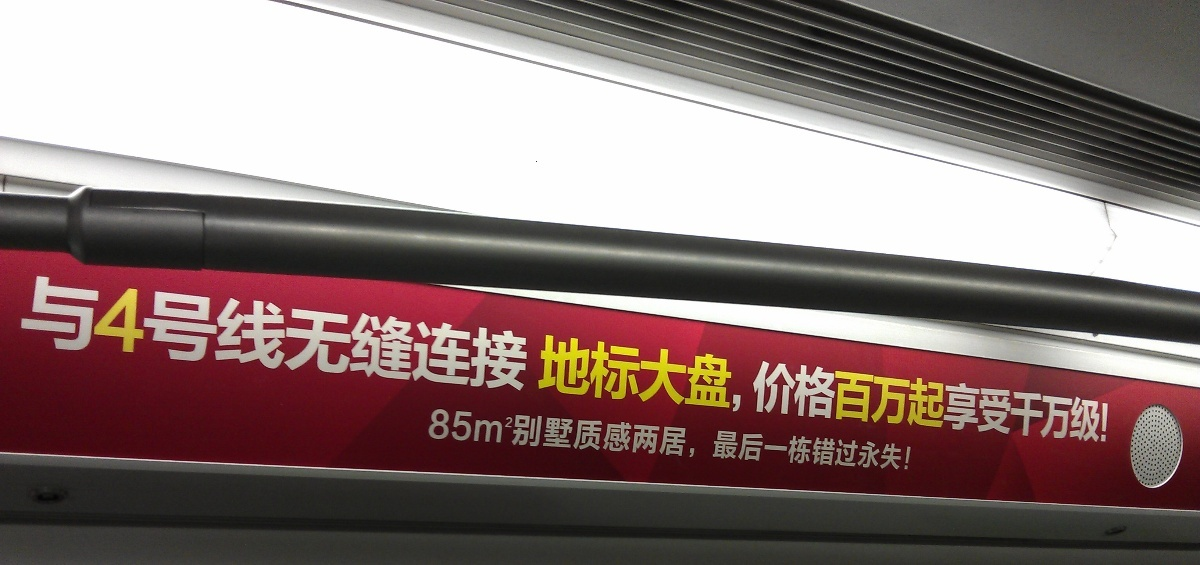text: (33, 277, 48, 448), (49, 277, 64, 448), (65, 277, 80, 448), (81, 277, 96, 448), (97, 277, 112, 448), (113, 277, 128, 448), (129, 277, 144, 448), (145, 277, 160, 448), (161, 277, 176, 448), (177, 277, 192, 448), (193, 277, 208, 448), (209, 277, 224, 448), (225, 277, 240, 448), (241, 277, 256, 448), (257, 277, 272, 448), (273, 277, 288, 448), (289, 277, 304, 448), (305, 277, 320, 448), (321, 277, 336, 448), (337, 277, 352, 448), (353, 277, 368, 448), (369, 277, 384, 448), (385, 277, 400, 448), (401, 277, 416, 448), (417, 277, 432, 448), (433, 277, 448, 448), (449, 277, 464, 448), (465, 277, 480, 448), (481, 277, 496, 448), (497, 277, 512, 448), (513, 277, 528, 448), (529, 277, 544, 448), (545, 277, 560, 448), (561, 277, 576, 448), (577, 277, 592, 448), (593, 277, 608, 448), (609, 277, 624, 448), (625, 277, 640, 448), (641, 277, 656, 448), (657, 277, 672, 448), (673, 277, 688, 448), (689, 277, 704, 448), (705, 277, 720, 448), (721, 277, 736, 448), (737, 277, 752, 448), (753, 277, 768, 448), (769, 277, 784, 448), (785, 277, 800, 448), (801, 277, 816, 448), (817, 277, 832, 448), (833, 277, 848, 448), (849, 277, 864, 448), (865, 277, 880, 448), (881, 277, 896, 448), (897, 277, 912, 448), (913, 277, 928, 448), (929, 277, 944, 448), (945, 277, 960, 448), (961, 277, 976, 448), (977, 277, 992, 448), (993, 277, 1008, 448), (1009, 277, 1024, 448), (1025, 277, 1040, 448), (1041, 277, 1056, 448), (1057, 277, 1072, 448), (1073, 277, 1088, 448), (1089, 277, 1104, 448), (897, 407, 913, 474), (1105, 277, 1111, 448), (433, 407, 448, 474), (449, 407, 464, 474), (465, 407, 480, 474), (481, 407, 496, 474), (497, 407, 512, 474), (513, 407, 528, 474), (529, 407, 544, 474), (545, 407, 560, 474), (561, 407, 576, 474), (577, 407, 592, 474), (593, 407, 608, 474), (609, 407, 624, 474), (625, 407, 640, 474), (641, 407, 656, 474), (657, 407, 672, 474), (673, 407, 688, 474), (689, 407, 704, 474), (705, 407, 720, 474), (721, 407, 736, 474), (737, 407, 752, 474), (753, 407, 768, 474), (769, 407, 784, 474), (785, 407, 800, 474), (801, 407, 816, 474), (817, 407, 832, 474), (833, 407, 848, 474), (849, 407, 864, 474), (865, 407, 880, 474), (881, 407, 896, 474), (28, 277, 32, 448), (428, 407, 432, 474)
